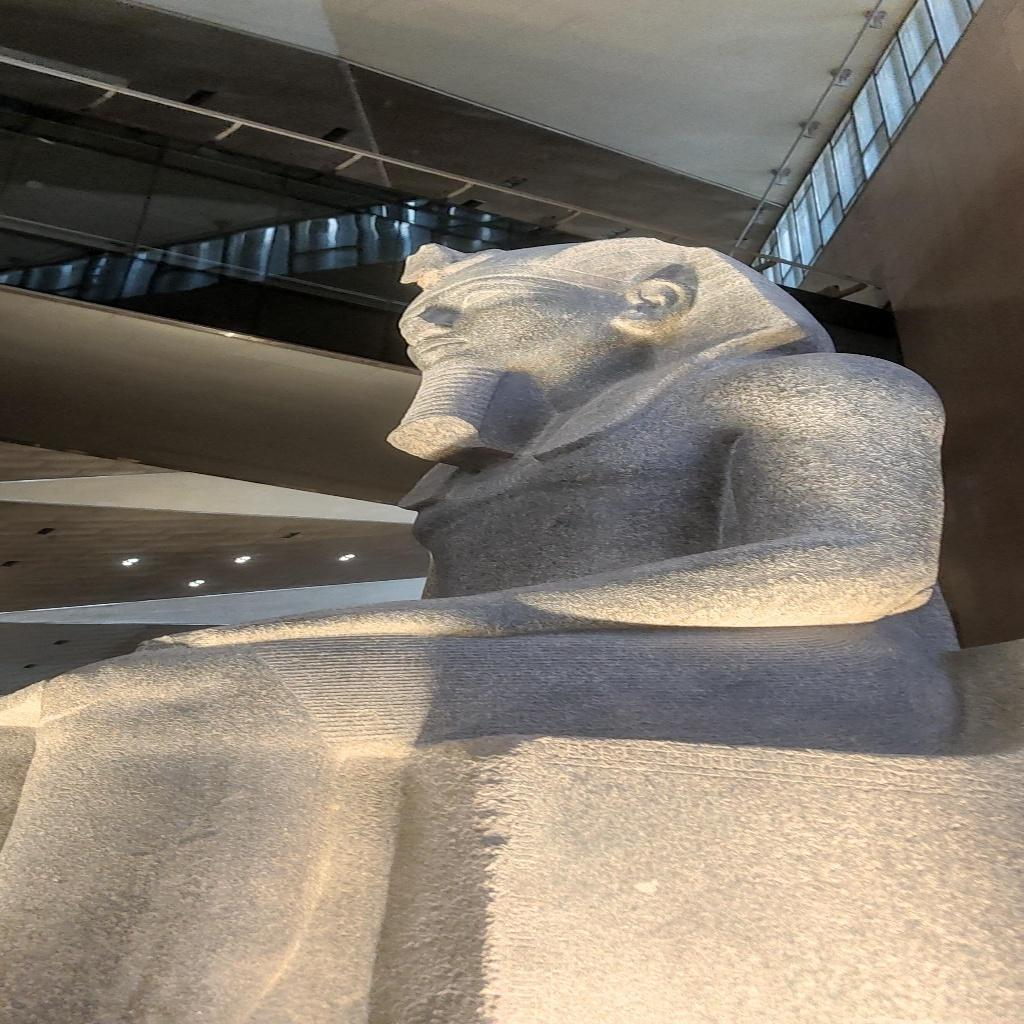Seated Statue of Amenhotep III: (8, 232, 1009, 1018)
